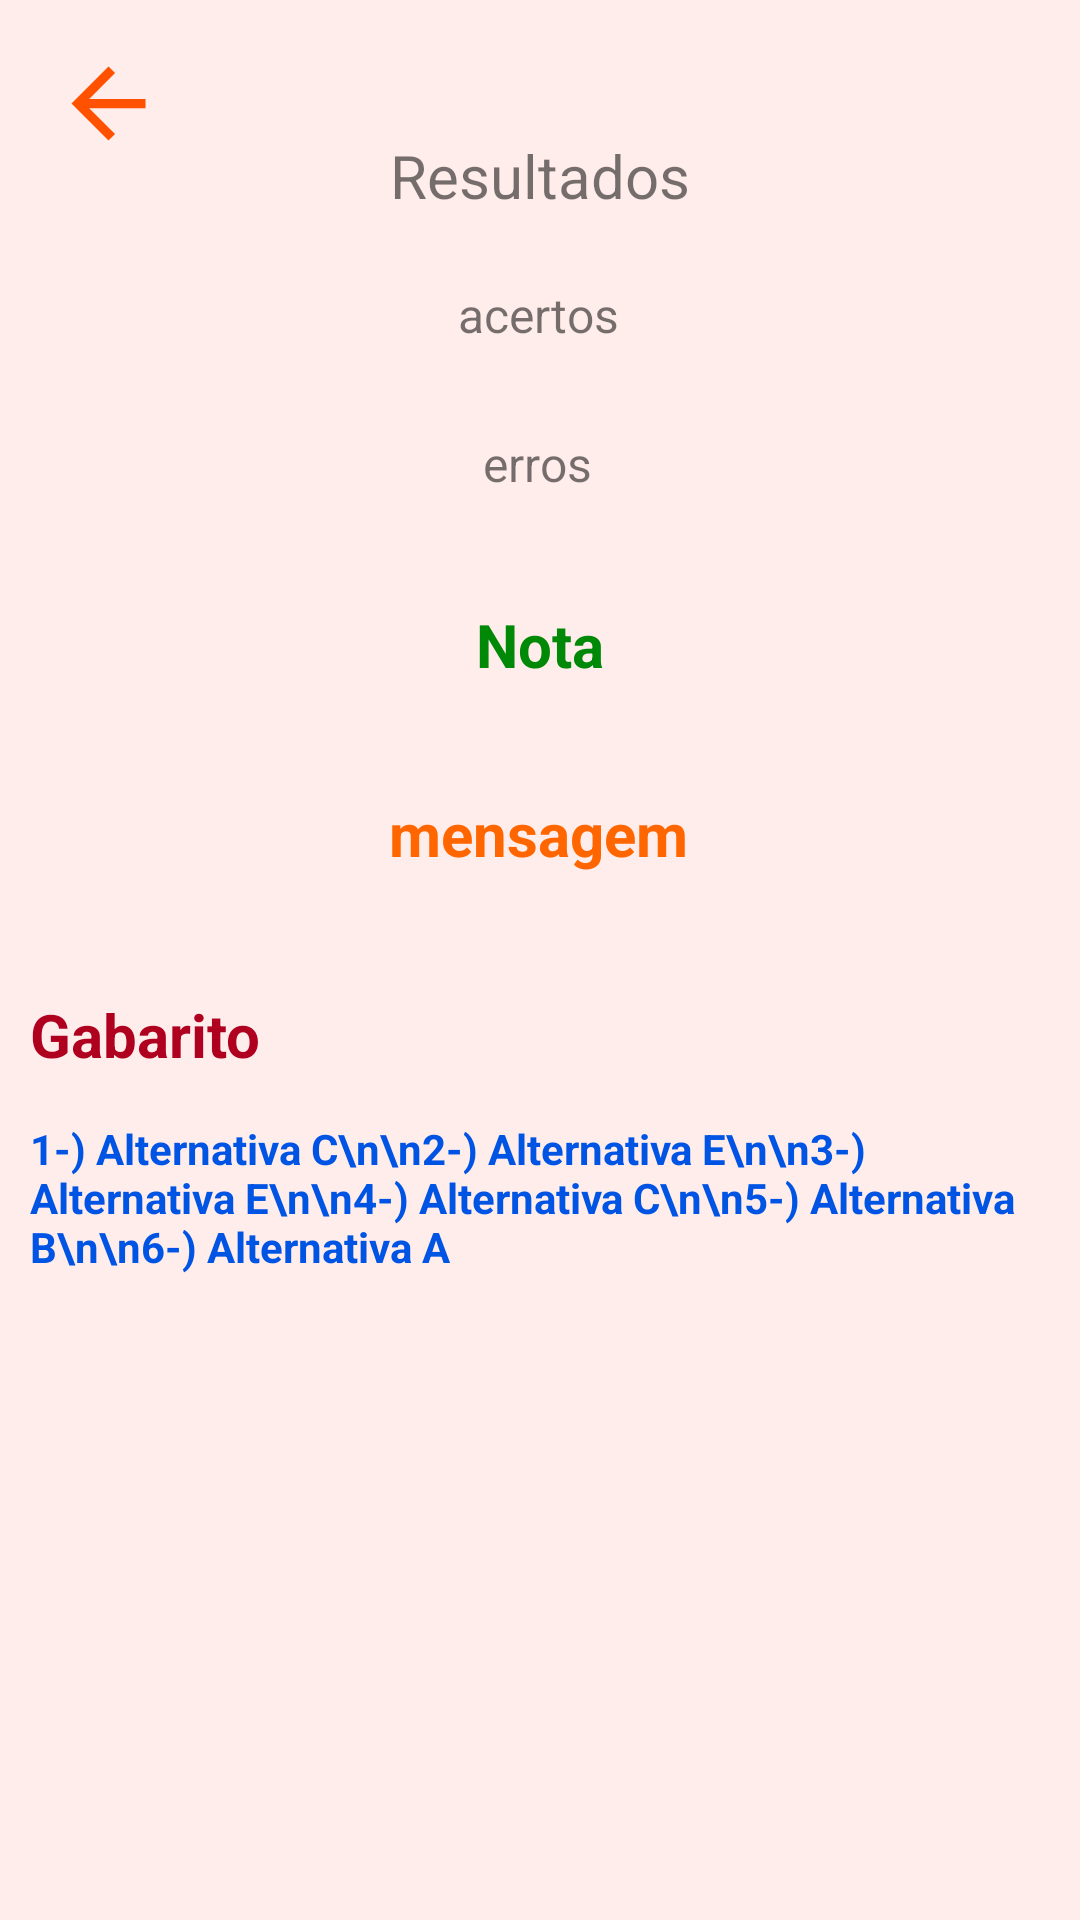

Where icons sit on this 1080px x 1920px app screen, as detection(x1, y1, x2, y2):
arrow back: detection(71, 66, 146, 141)
